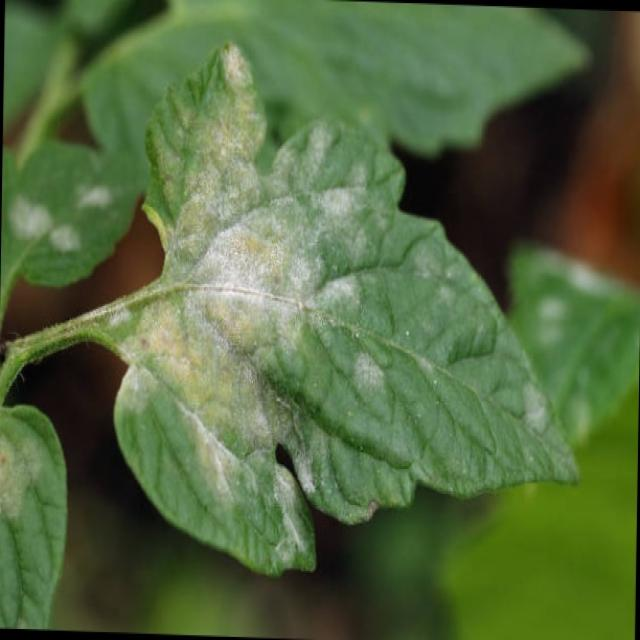Powdery Mildew: (108, 39, 579, 577)
